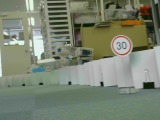speed_30: (109, 33, 134, 57)
